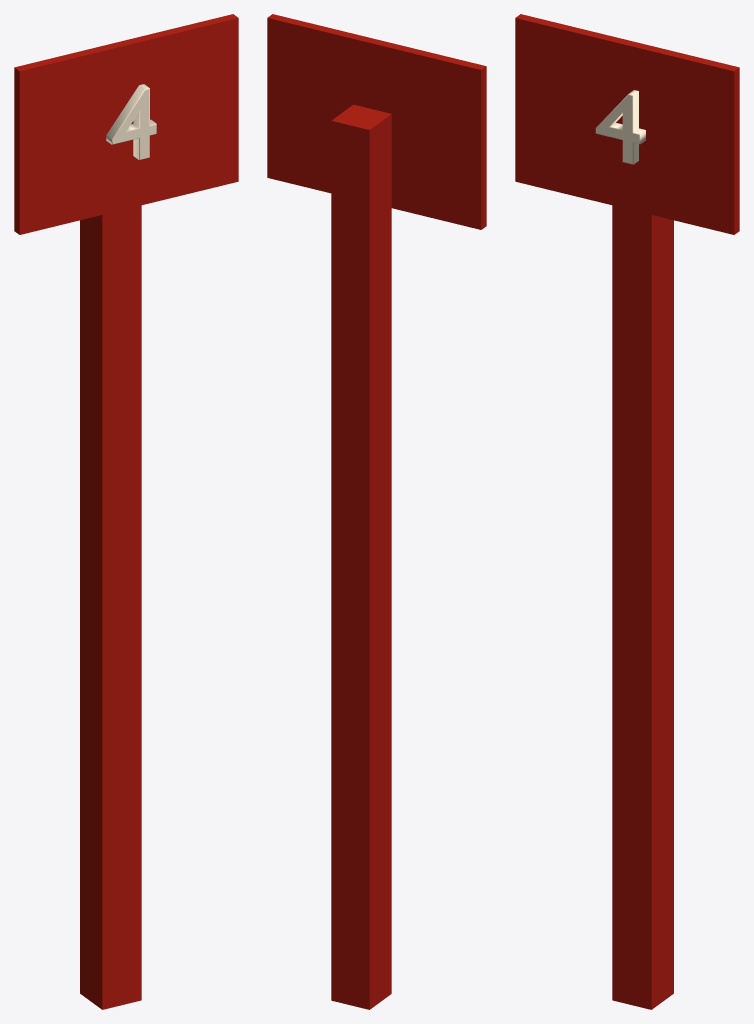
Rendered from hole_4.obj.
The picture shows the model from 3 angles, left to right: view 1: azimuth 30°, elevation 25°; view 2: azimuth 150°, elevation 25°; view 3: azimuth 330°, elevation 25°; orthographic projection. The views are drawn at different scales.
Parts seen in each view (by area): view 1: Stake, Board, Number_1; view 2: Stake, Board; view 3: Stake, Board, Number_1.
Boxes of the visible parts, x1=… form: Stake: x1=80, y1=205, x2=141, y2=1009; Board: x1=14, y1=14, x2=238, y2=234; Number_1: x1=106, y1=84, x2=156, y2=159; Stake: x1=331, y1=104, x2=391, y2=1009; Board: x1=267, y1=14, x2=486, y2=229; Stake: x1=612, y1=205, x2=673, y2=1009; Board: x1=515, y1=14, x2=739, y2=234; Number_1: x1=595, y1=90, x2=645, y2=164.
Size of what is drawn, in the model's own units: 0.28 by 1.18 by 0.08.
